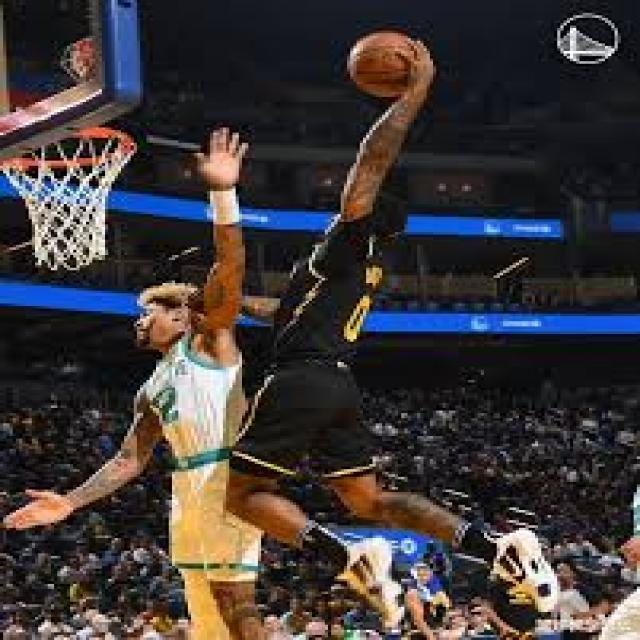rim: (350, 33, 427, 94)
